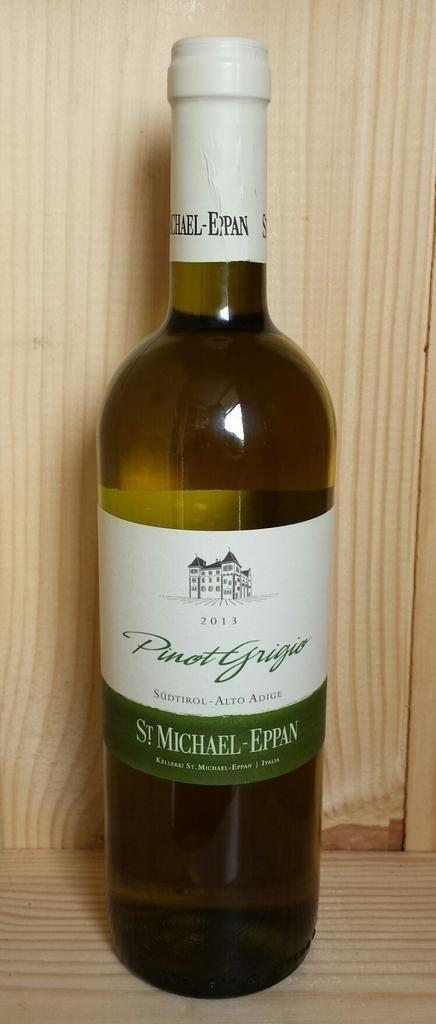bottle-glass: (93, 26, 340, 998)
